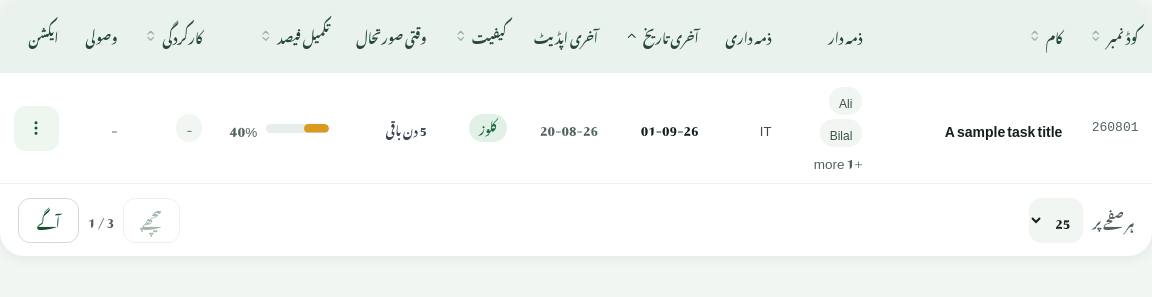
it: TaskTable (docs/08-ui-ux.md §6) › Update is disabled on an already-closed task; Previous Updates stays enabled
The image size is (1152, 297).
Click the button named "اقدامات" at {"x": 36, "y": 128}, box [14, 106, 58, 151]
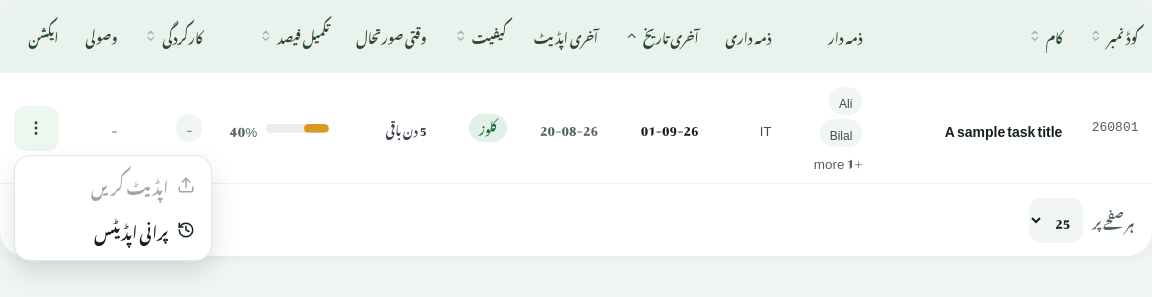
Expected: the button labelled "اپڈیٹ کریں" is disabled, [22, 163, 204, 208]
Expected: the button labelled "پرانی اپڈیٹس" is enabled, [22, 208, 204, 253]
